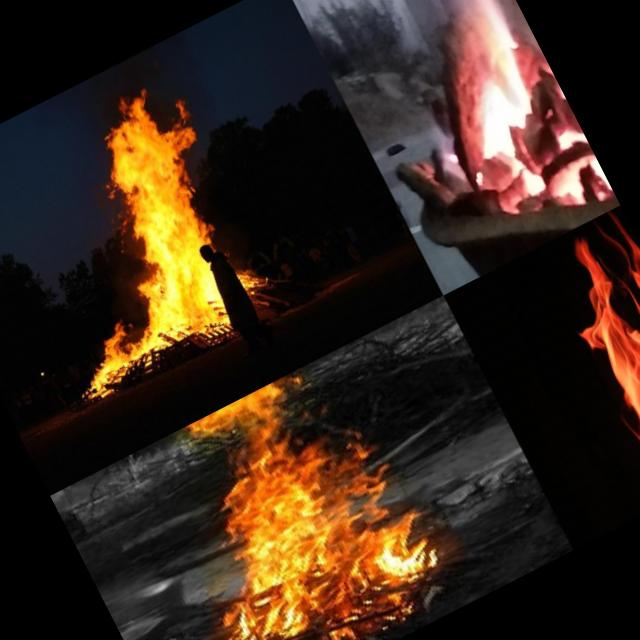fire: (127, 345, 460, 640), (0, 81, 283, 403), (501, 205, 640, 520), (394, 0, 593, 198)
